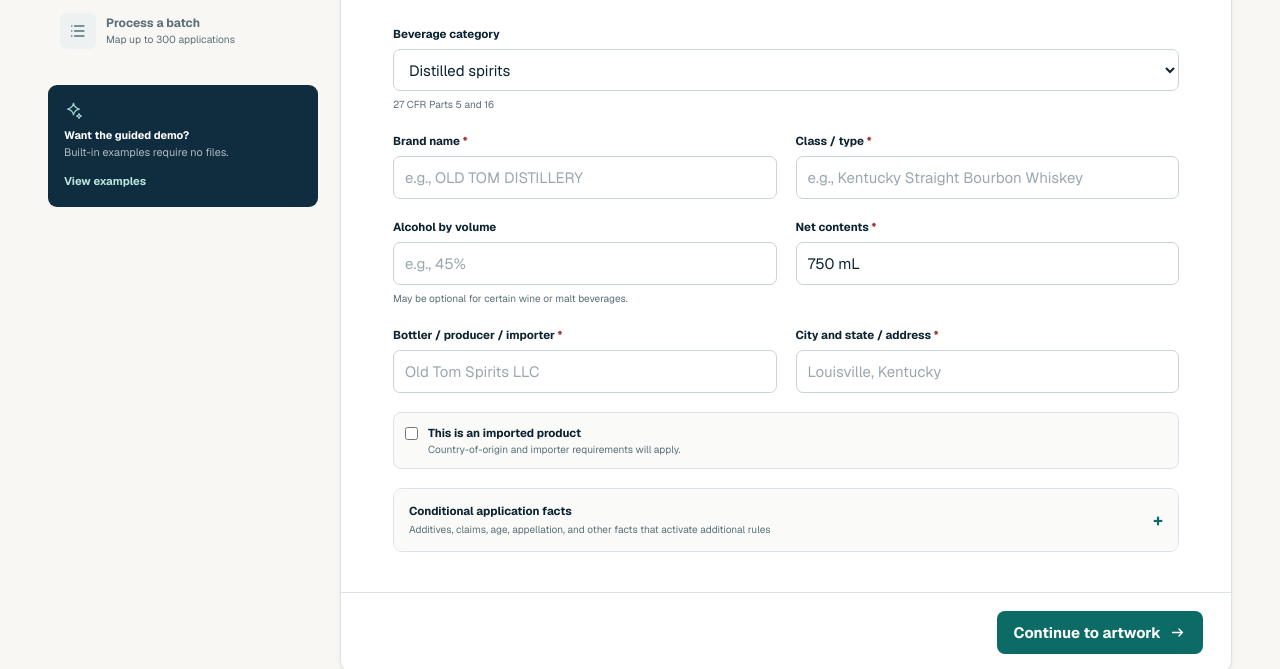
Test: SubmitWizard › keeps an incomplete manual application on the details step
(page scrolled)
Click the button "Continue to artwork" at (1100, 632), box [996,611,1203,654]
(page scrolled)
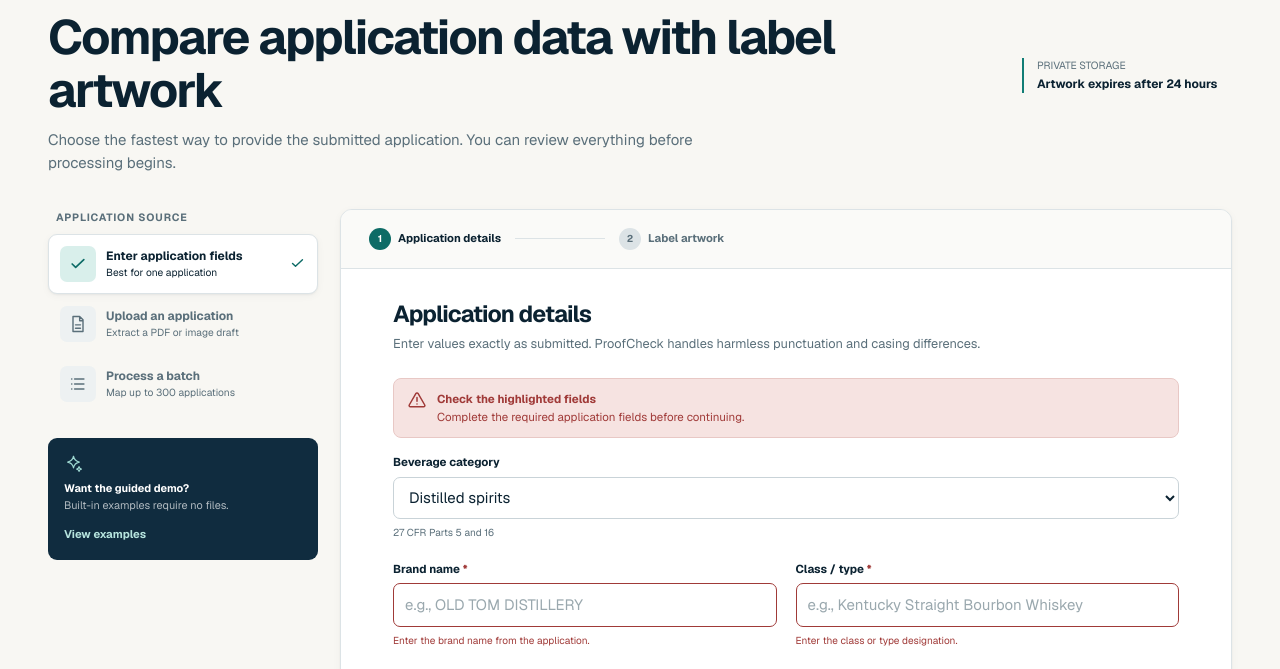
Check: the heading "Application details" is shown, box [393,299,591,329]
Check: the message shows "Check the highlighted fields", box [437,391,596,406]
Check: the text "Enter the brand name from the application." is shown, box [393,634,590,647]
